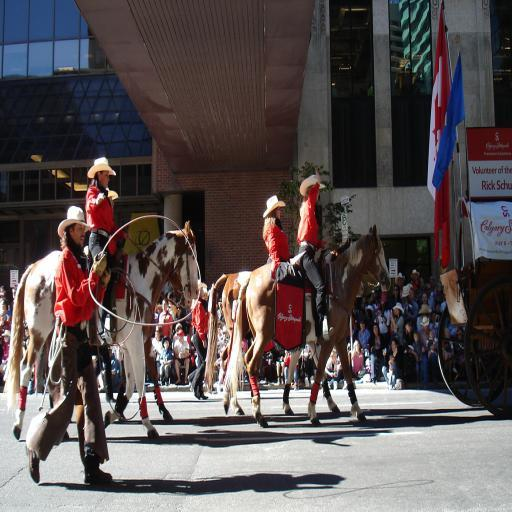Horse: (4, 218, 199, 444), (223, 223, 392, 430), (205, 232, 378, 416)
